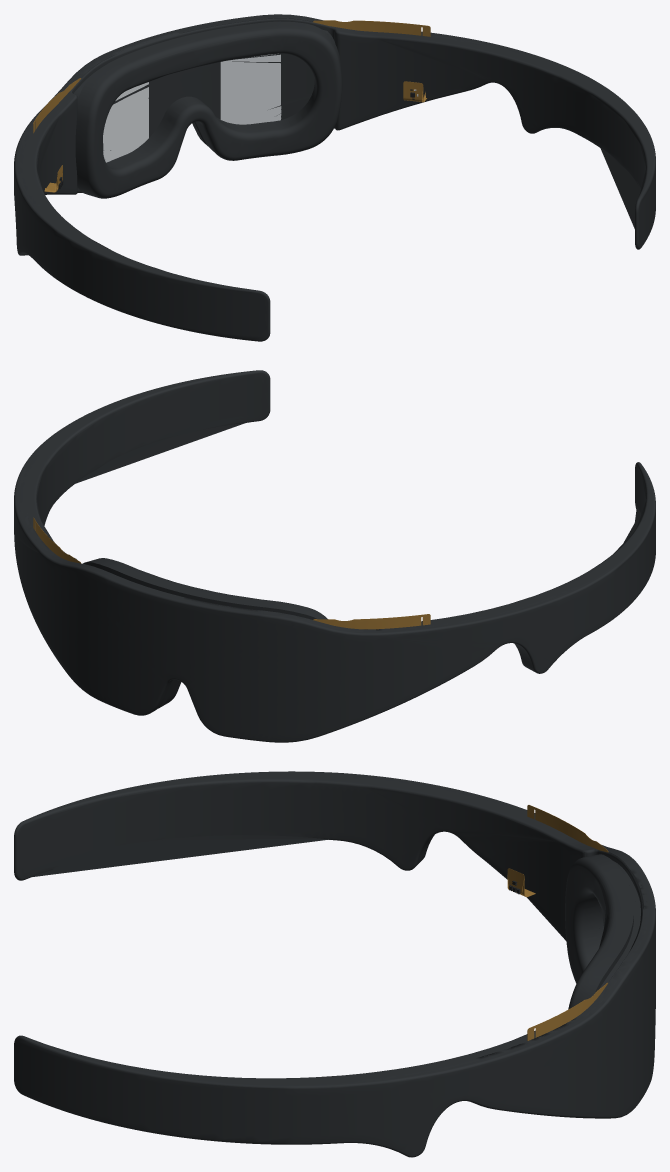
The model's file is mask.glb.
The picture shows the model from 3 angles, top to bottom: view 1: azimuth 30°, elevation 25°; view 2: azimuth 150°, elevation 25°; view 3: azimuth 270°, elevation 25°; orthographic projection. The views are drawn at different scales.
Parts seen in each view (by area): view 1: shell, comfort, power, light, sensing, padding; view 2: shell, comfort, padding, sensing; view 3: shell, comfort, padding, sensing.
Boxes of the visible parts, x1,y1,x2,y2 form: shell: [14, 14, 655, 341]; comfort: [75, 21, 342, 198]; power: [103, 53, 281, 162]; light: [102, 53, 314, 152]; sensing: [33, 20, 430, 192]; padding: [19, 15, 577, 255]; shell: [14, 370, 655, 742]; comfort: [83, 558, 327, 708]; padding: [19, 455, 576, 710]; sensing: [33, 517, 430, 629]; shell: [14, 771, 655, 1157]; comfort: [565, 854, 637, 1009]; padding: [353, 775, 649, 1081]; sensing: [507, 805, 608, 1040].
Size of the model in its own units: 0.2899 by 0.0628 by 0.2485.
